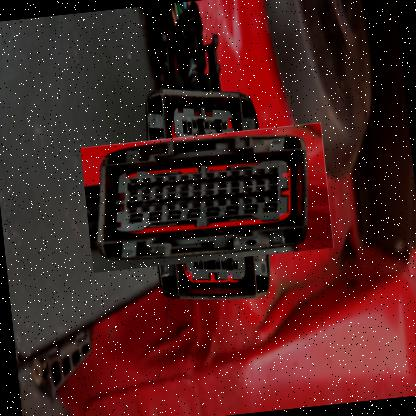Connector: (104, 96, 307, 299)
